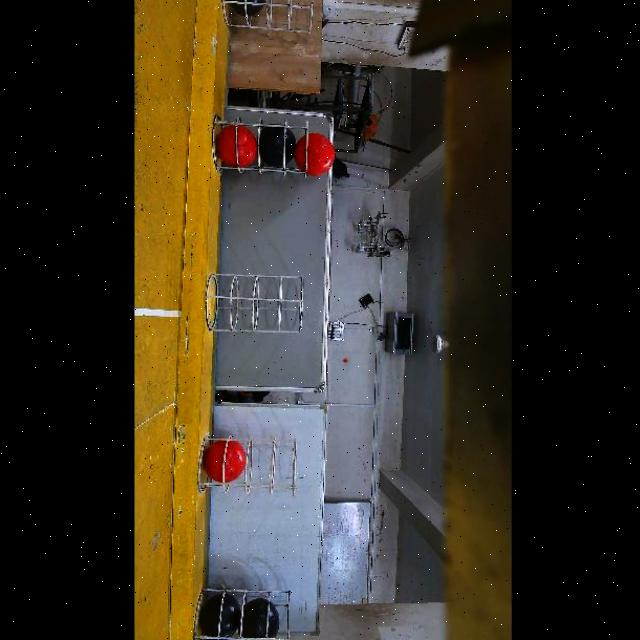P: (198, 593, 240, 637), (258, 124, 295, 167), (241, 598, 278, 638), (228, 0, 263, 17)
R: (293, 132, 333, 176), (203, 439, 243, 483), (215, 127, 255, 166)
S: (199, 274, 305, 334), (212, 114, 308, 180), (200, 437, 298, 498), (202, 590, 292, 640), (224, 0, 316, 38)
